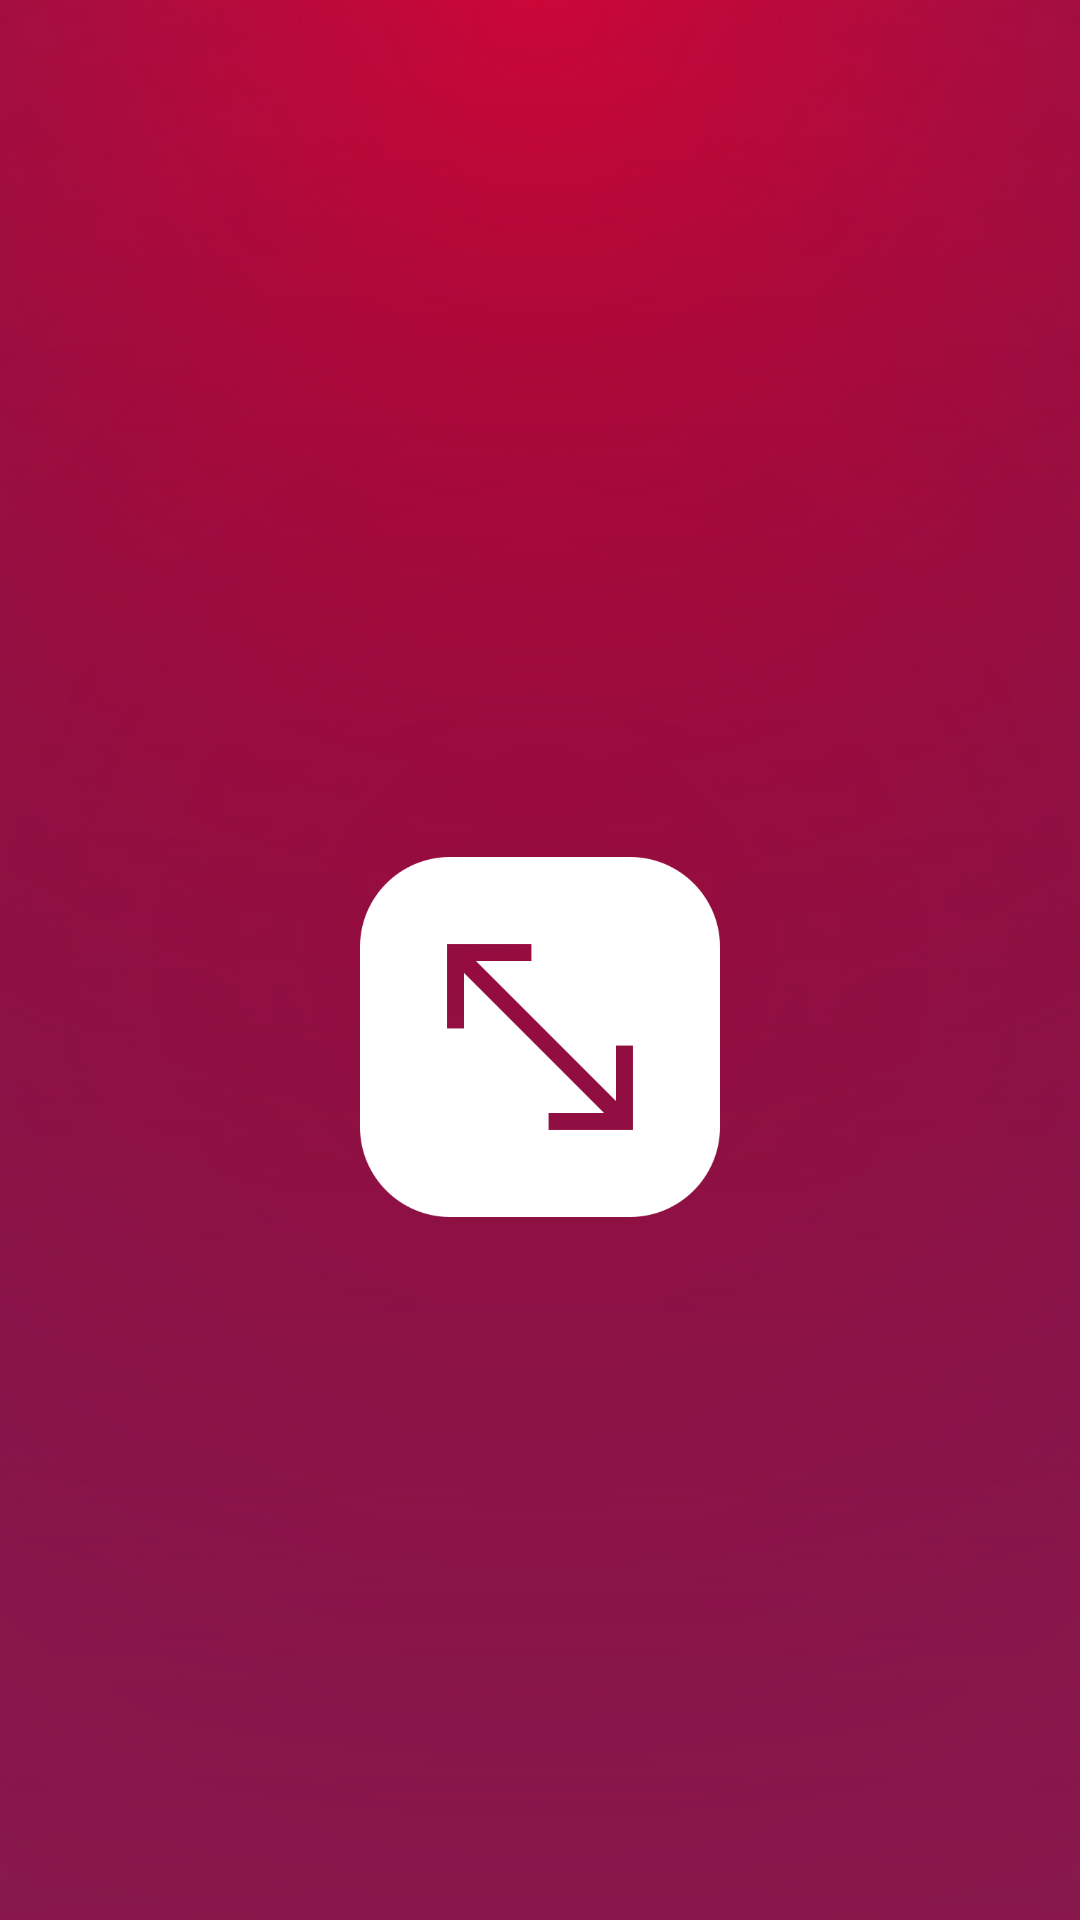

Named icons in this screenshot (1080*1920) and their bounding boxes, detection(x1, y1, x2, y2):
scale: detection(360, 857, 720, 1217)
